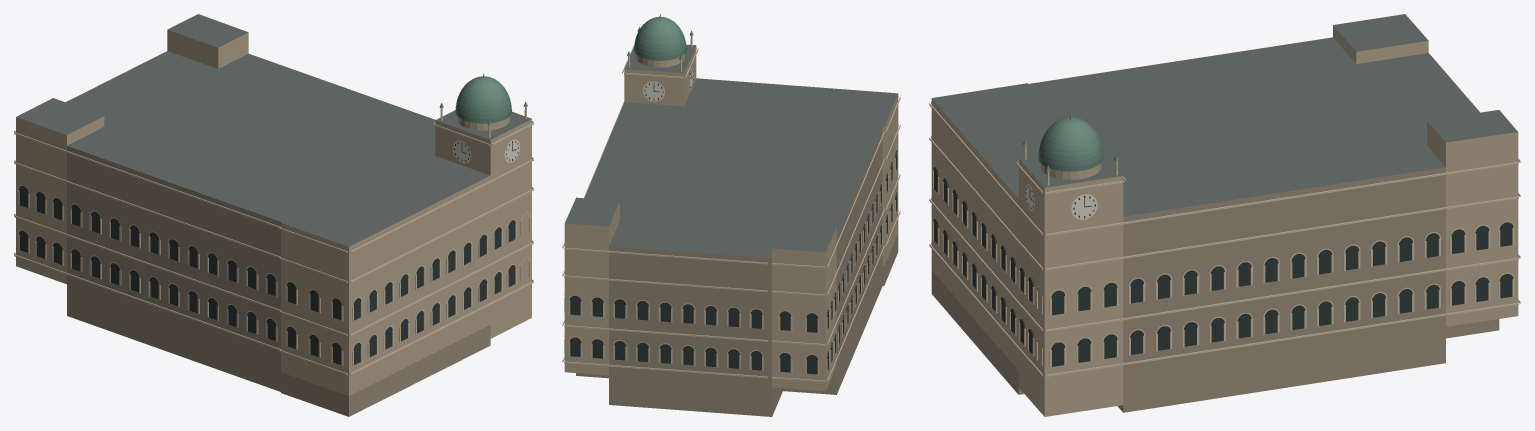
The model's file is forum.glb.
The picture shows the model from 3 angles, left to right: view 1: azimuth 30°, elevation 25°; view 2: azimuth 150°, elevation 25°; view 3: azimuth 270°, elevation 25°; orthographic projection. The views are drawn at different scales.
Parts seen in each view (by area): view 1: structure_806370_clean_envelope, Forum trim, Forum glass, Forum ground connection, Forum copper dome, Forum clock; view 2: structure_806370_clean_envelope, Forum trim, Forum glass, Forum ground connection, Forum copper dome, Forum clock, Forum dome drum; view 3: structure_806370_clean_envelope, Forum trim, Forum glass, Forum ground connection, Forum copper dome, Forum clock.
Part boxes in pixels (x1,y1,x2,y2): structure_806370_clean_envelope: (16, 14, 531, 395); Forum trim: (14, 121, 533, 375); Forum glass: (19, 141, 518, 364); Forum ground connection: (67, 295, 490, 416); Forum copper dome: (455, 76, 511, 123); Forum clock: (452, 139, 519, 163); structure_806370_clean_envelope: (564, 44, 898, 397); Forum trim: (562, 44, 900, 382); Forum glass: (569, 69, 897, 374); Forum ground connection: (576, 233, 898, 416); Forum copper dome: (634, 17, 686, 60); Forum clock: (643, 68, 693, 101); Forum dome drum: (635, 53, 684, 67); structure_806370_clean_envelope: (931, 14, 1518, 416); Forum trim: (929, 101, 1520, 376); Forum glass: (933, 167, 1513, 366); Forum ground connection: (931, 270, 1499, 412); Forum copper dome: (1038, 117, 1103, 171); Forum clock: (1025, 184, 1097, 219).
Bounding box in the file's own units: 53.56 × 35.44 × 65.46.
